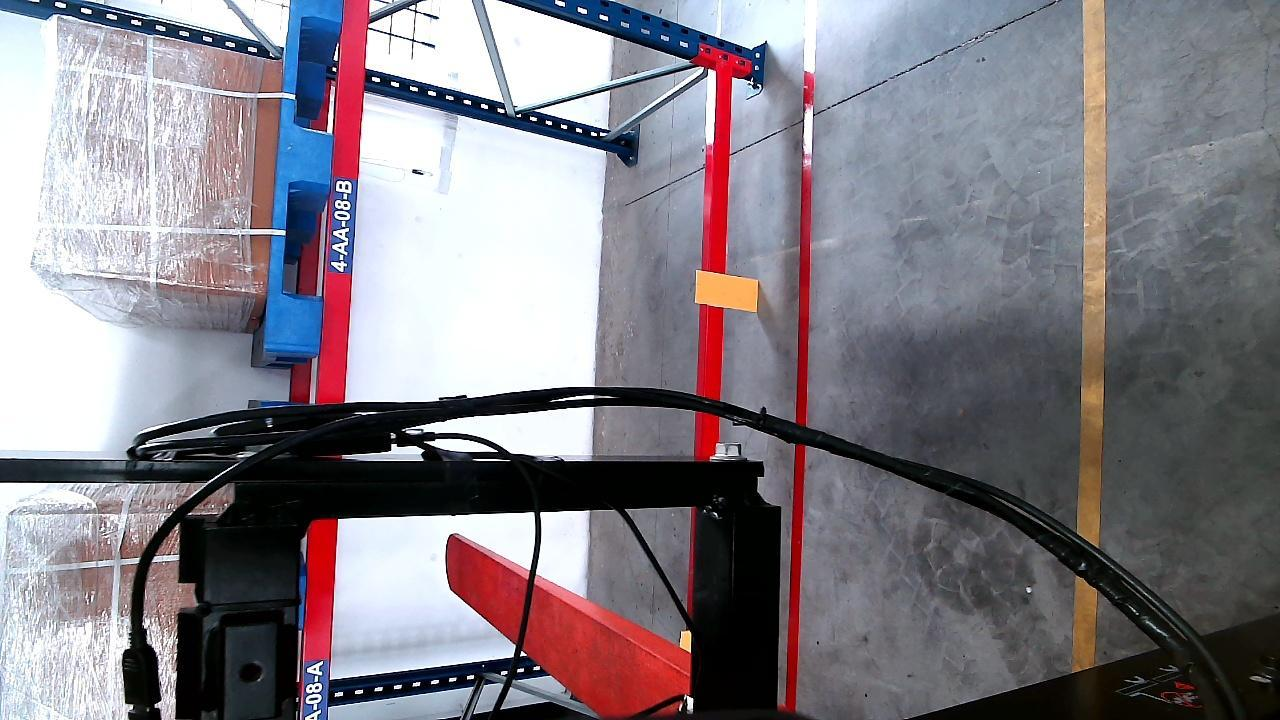red_line: (782, 0, 817, 709)
yellow_line: (1079, 4, 1109, 543)
